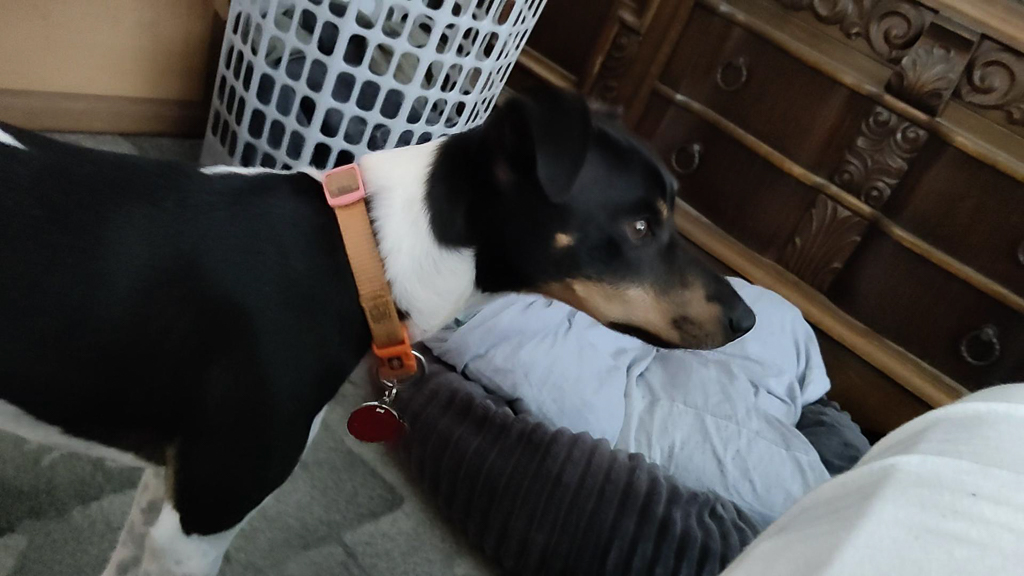Dog: (0, 65, 768, 576)
